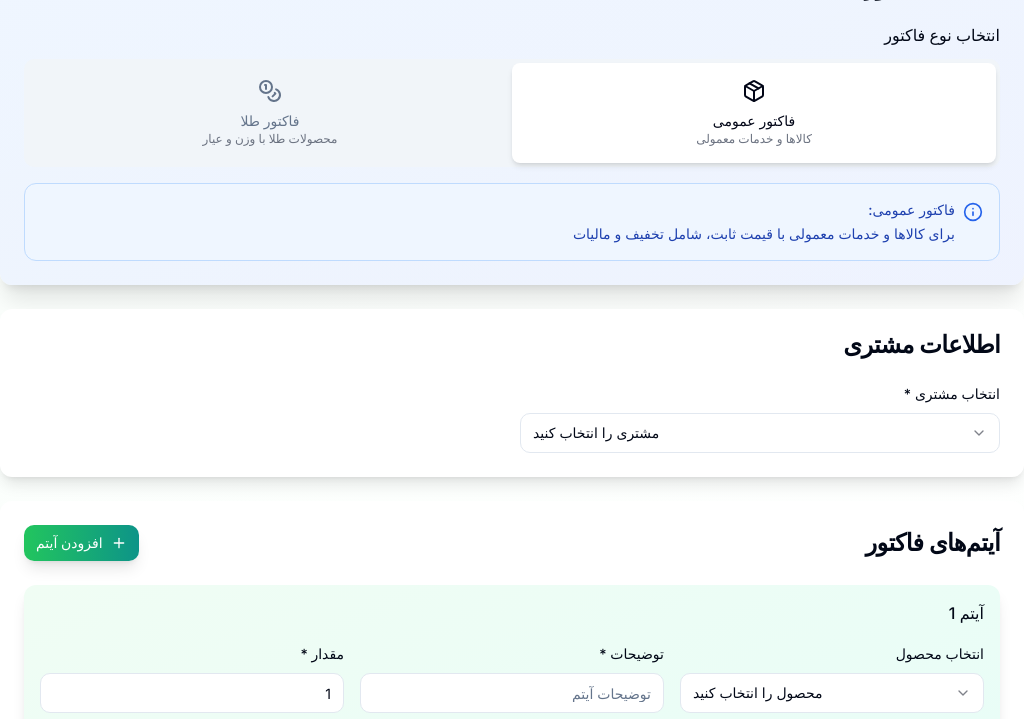
Test case: InvoiceForm › Invoice Items Management › should add new item when add button is clicked
Click the button "افزودن آیتم": (81, 543) [24,525,139,561]
(page scrolled)
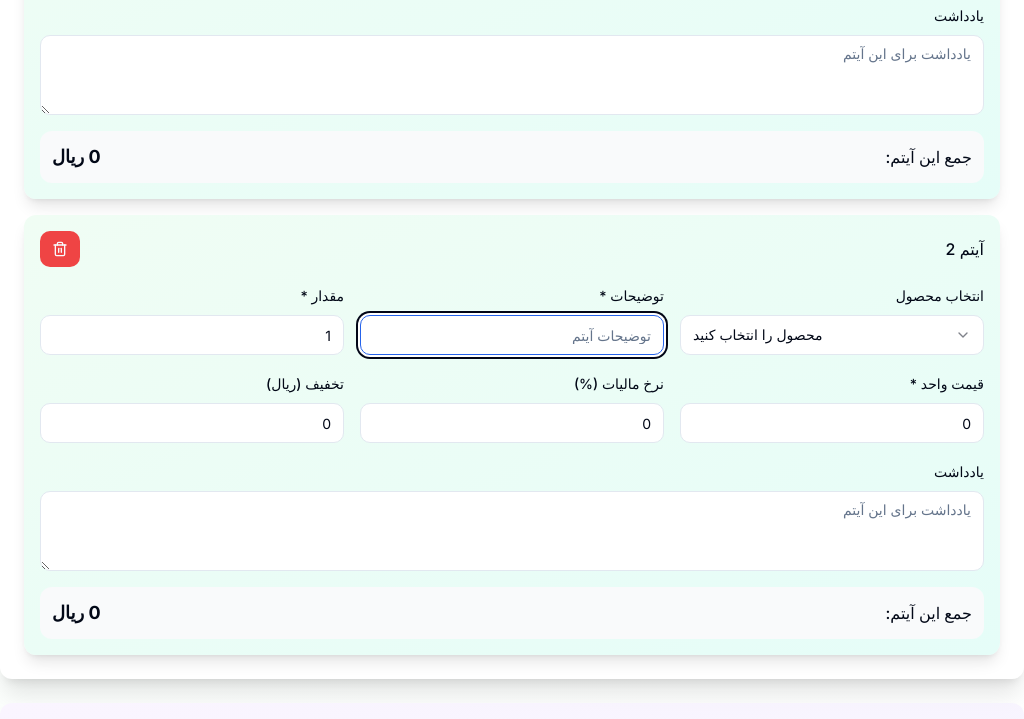
Check: the heading "آیتم 2" is shown, box [946,237,984,261]
